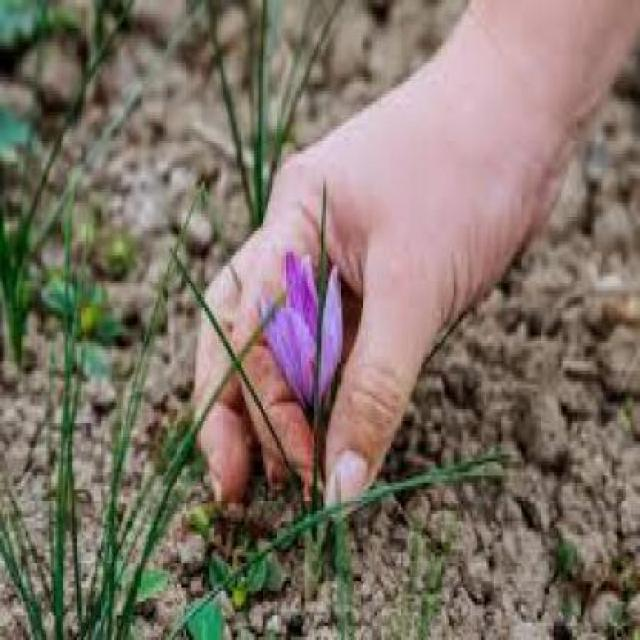Flower: (256, 246, 346, 426)
